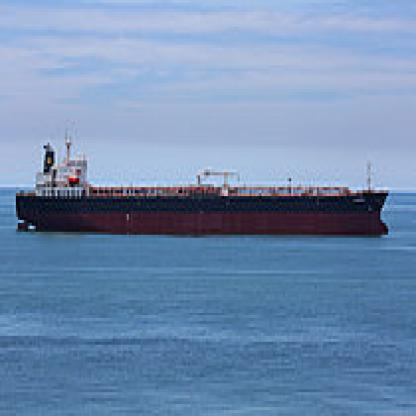Tanker: (10, 142, 394, 240)
